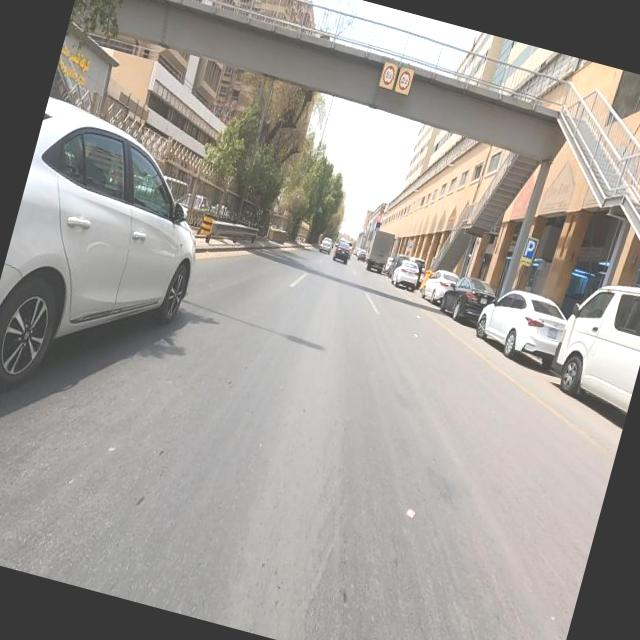debris: (511, 124, 611, 240), (481, 141, 568, 257), (422, 177, 484, 260), (414, 192, 451, 242)
